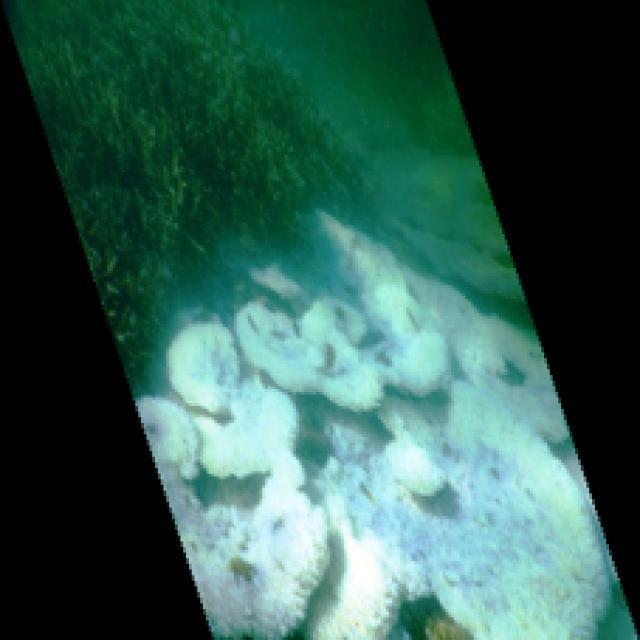Bleached: (139, 204, 622, 640), (424, 432, 620, 638), (154, 448, 329, 640), (168, 321, 248, 416)
